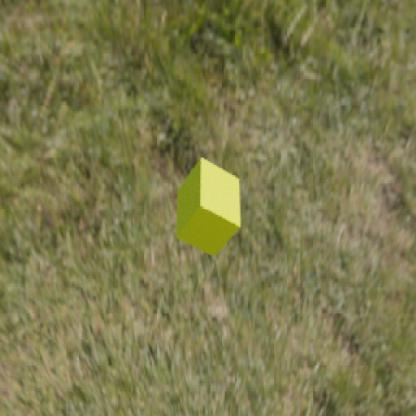cube: (176, 156, 240, 257)
